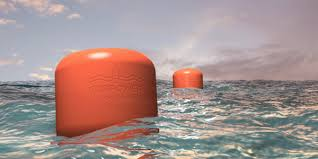buoy: (54, 48, 160, 142), (172, 66, 204, 91)
